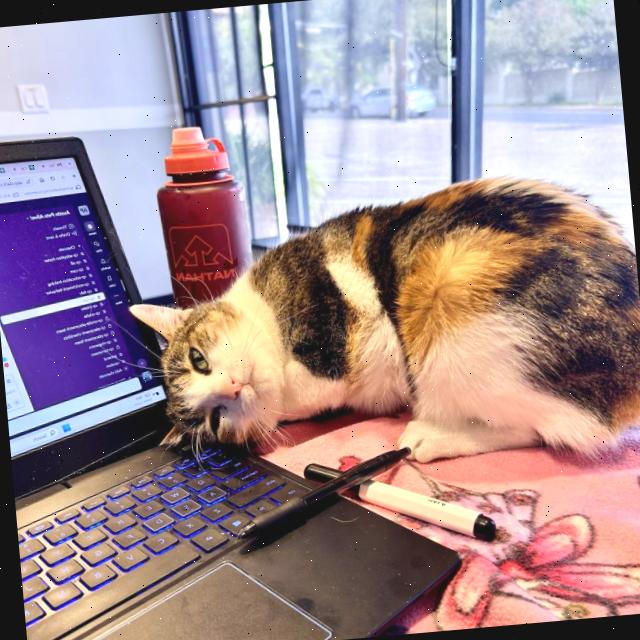manx_cat: (117, 270, 300, 473)
